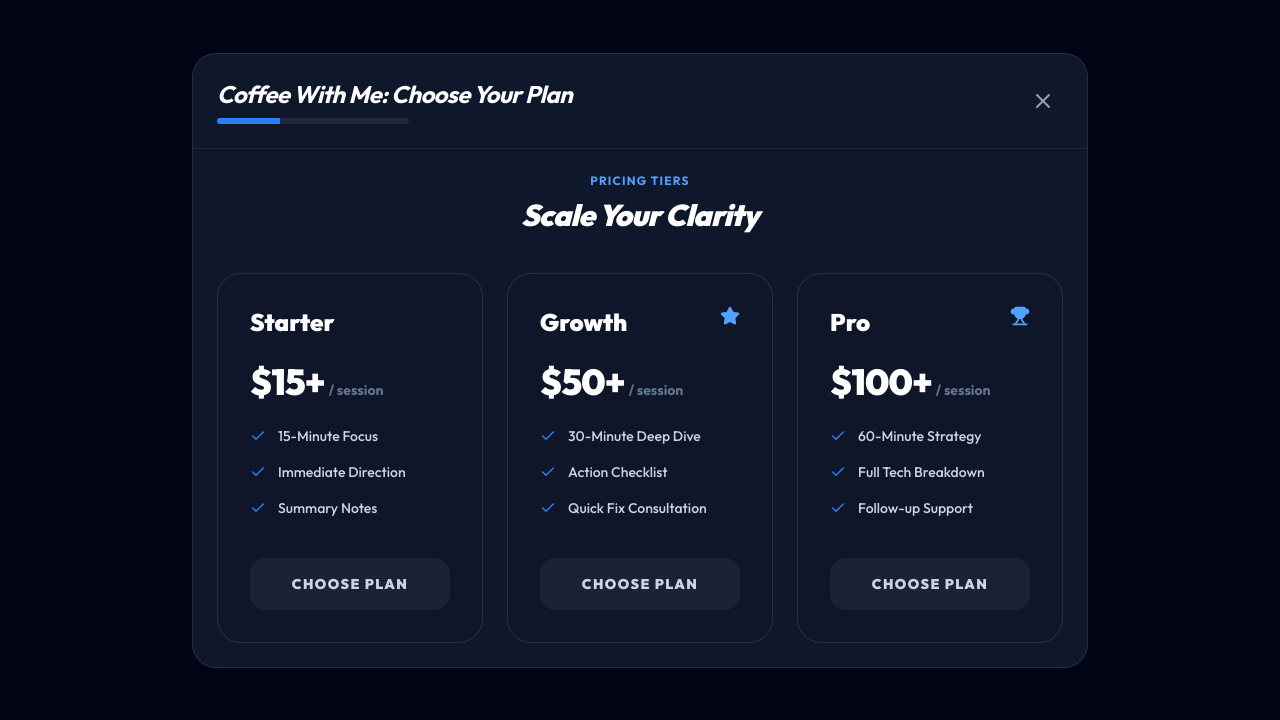
CoffeeMeModal Component (Consultancy Journey Integration) › transitions through the 3-step state machine correctly
This screenshot has width=1280, height=720.
Step 1: Plans
Click the heading "Growth" at (584, 322), box [540,306,627,338]
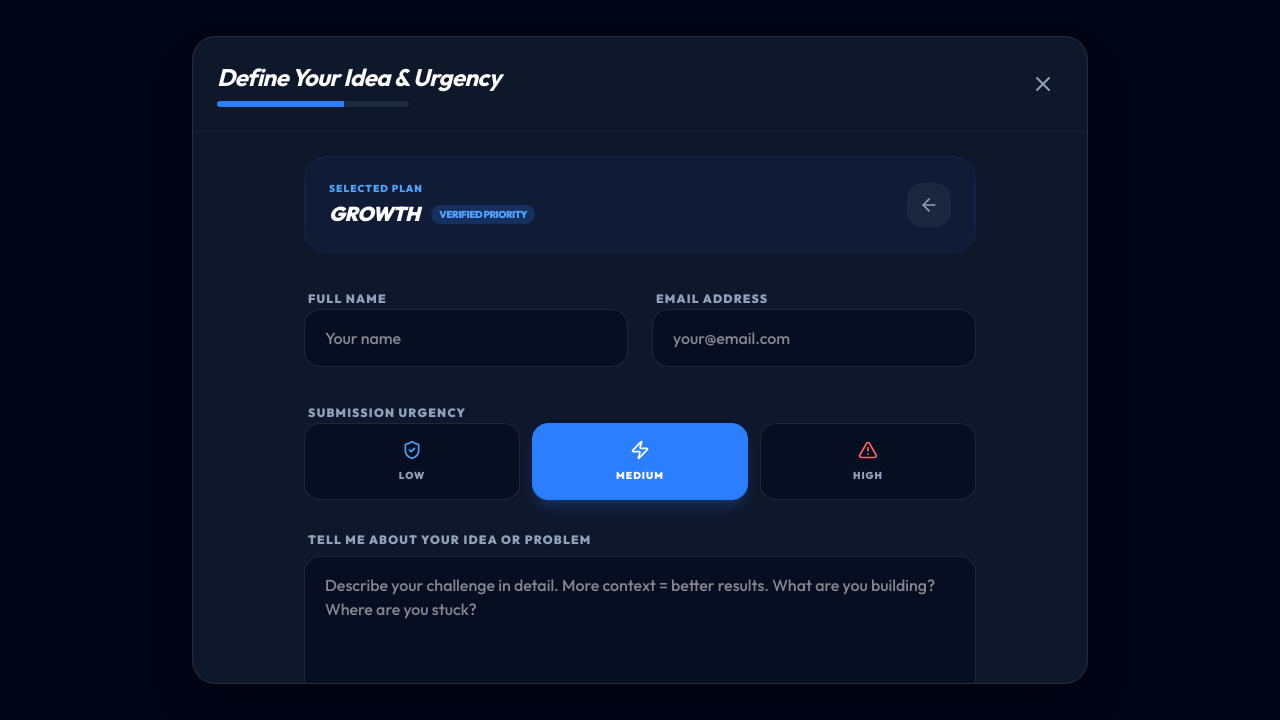
Check: the heading "Define Your Idea & Urgency" is shown, box [217,61,501,93]
Type "Tester" into the field with placeholder "Your name" at (466, 338), box [304,309,628,367]
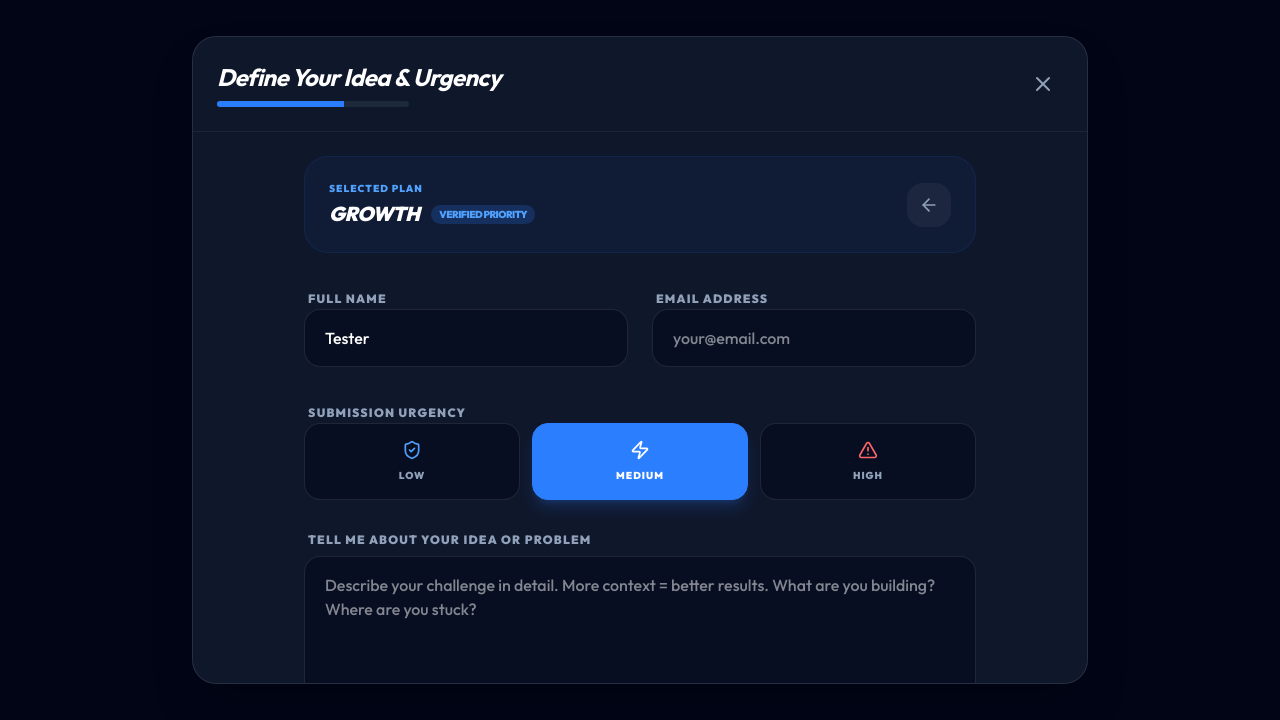
Type "test@example.com" into the field with placeholder "your@email.com" at (814, 338), box [652,309,976,367]
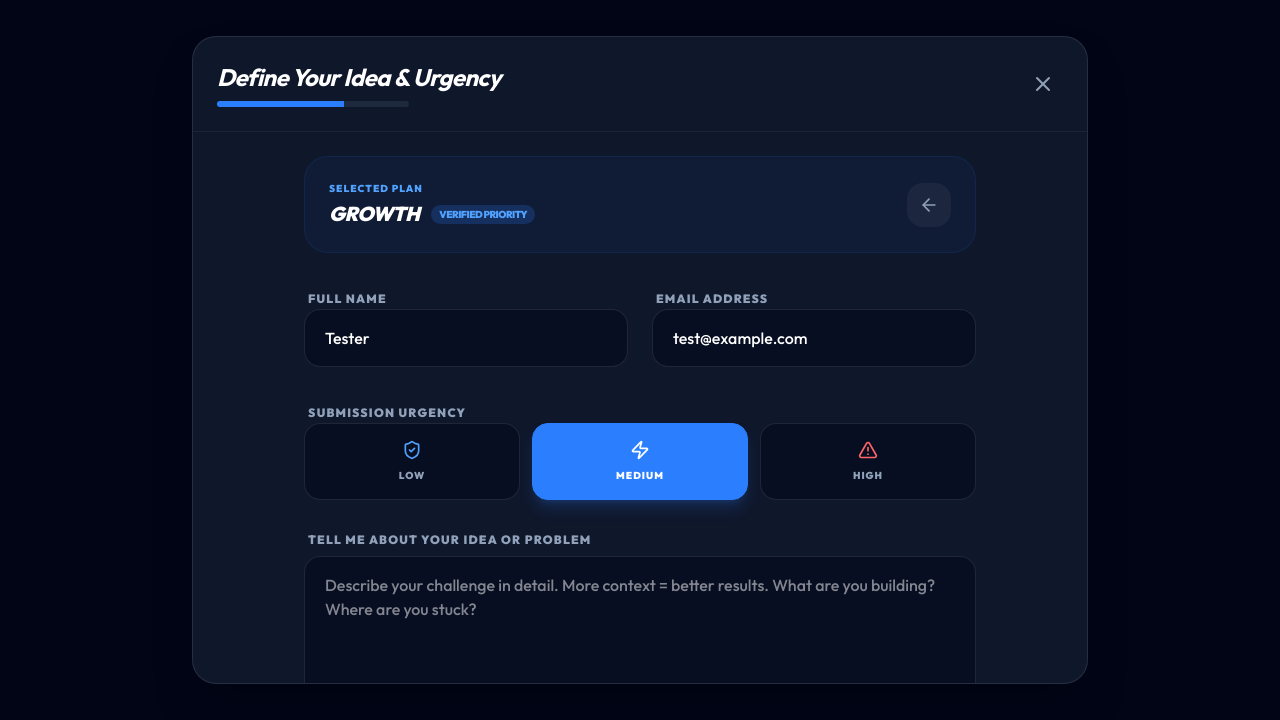
Select Urgency
Click the button "High" at (868, 462), box [760,423,976,500]
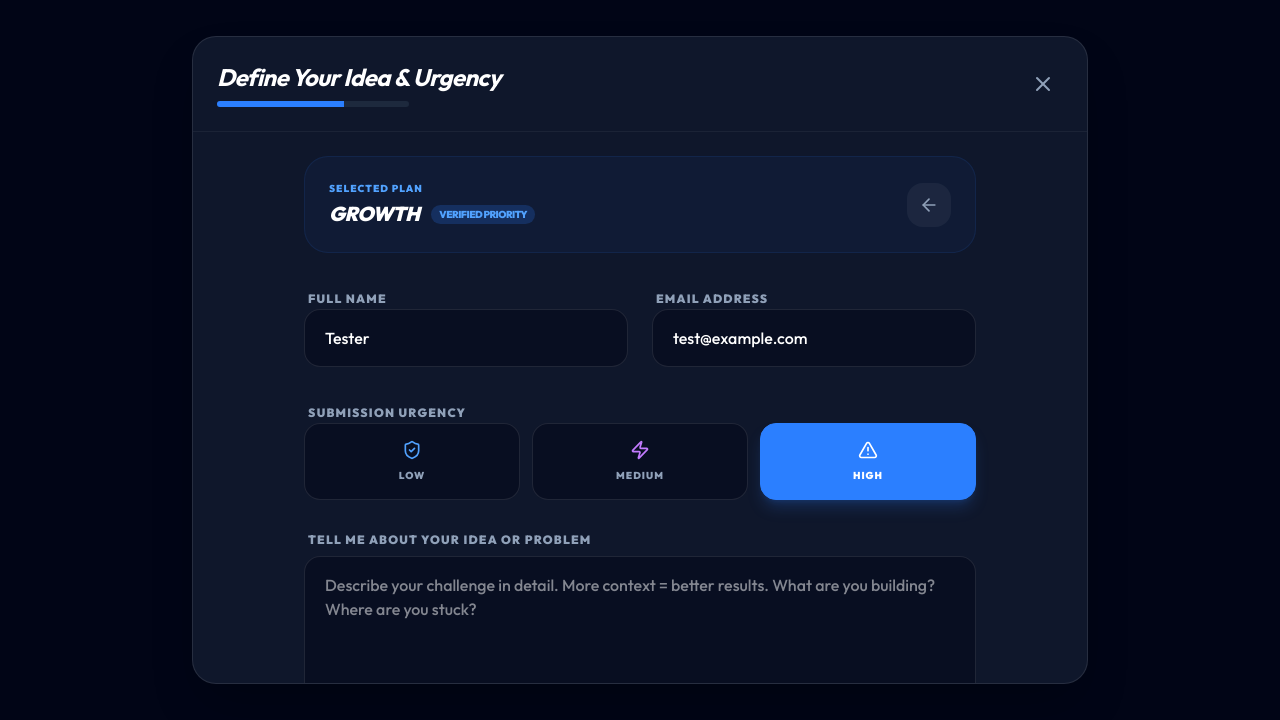
Replace the text in the text box with placeholder "Describe your challenge in detail" with "I need help with React performance optimization and high-scale SSR challenges with Drizzle." at (640, 636), box [304,556,976,716]
(page scrolled)
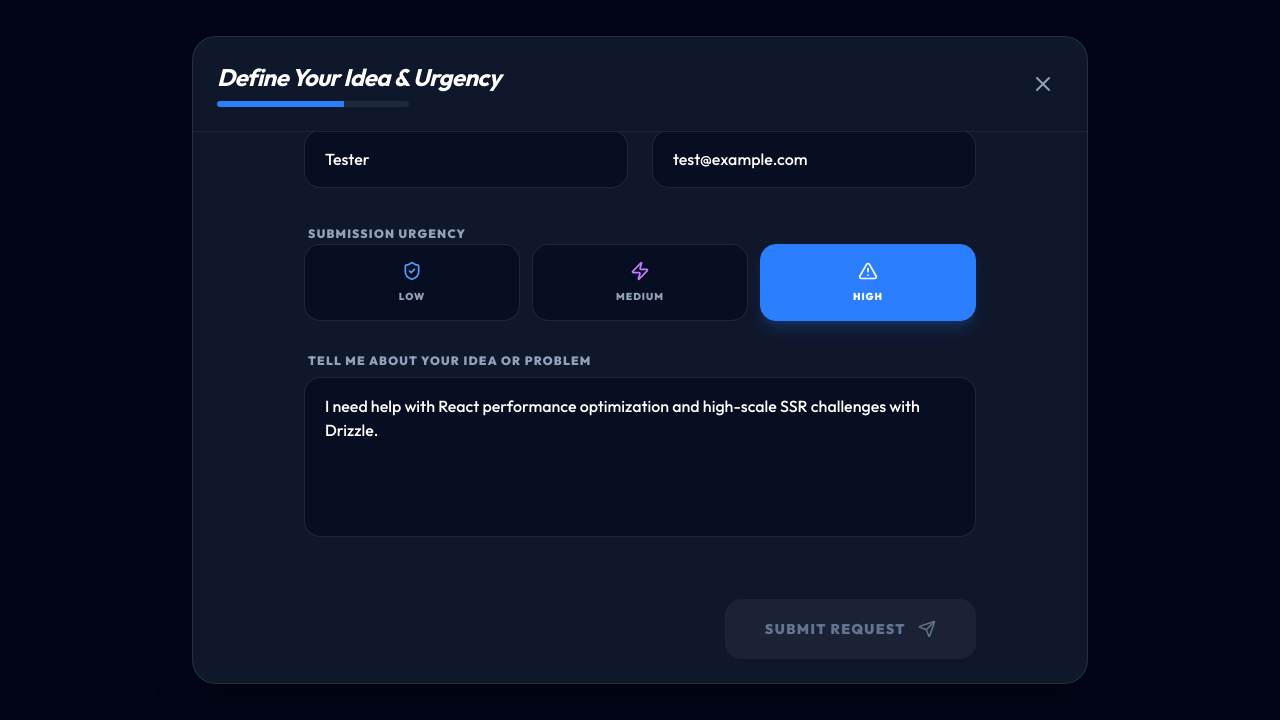
Click the button "Submit Request" at (850, 629), box [725,599,976,659]
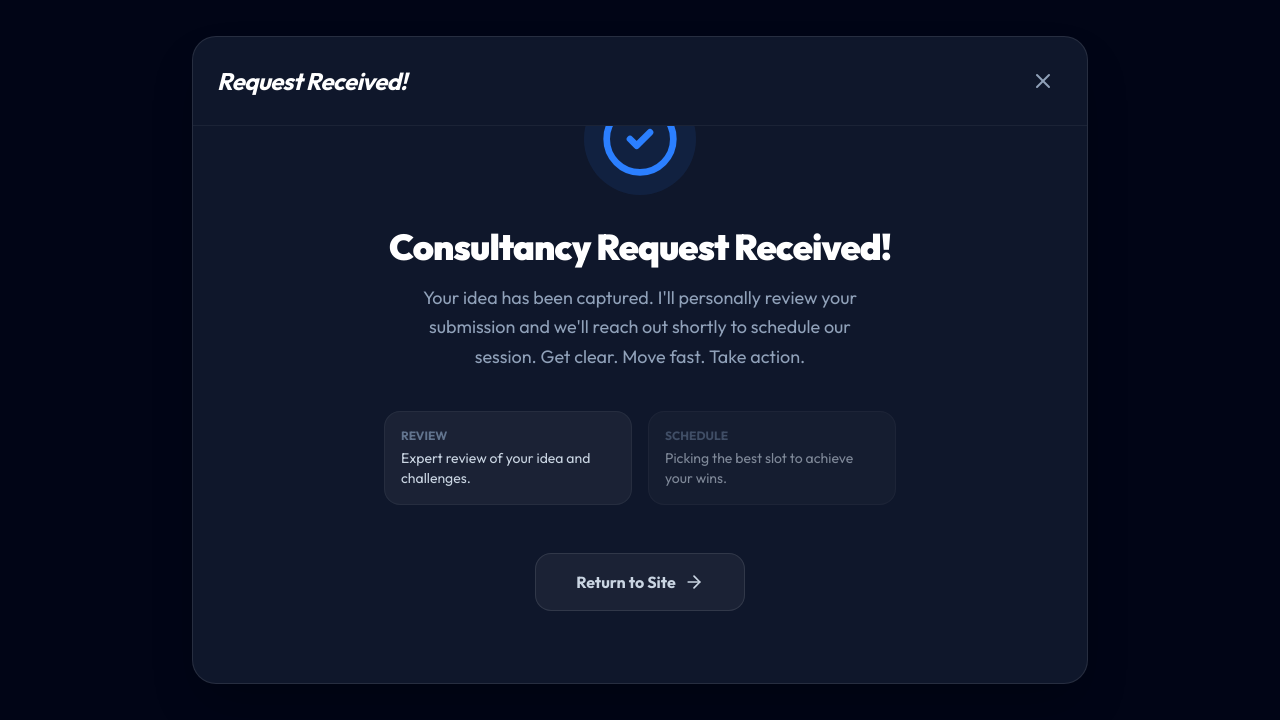
Check: the heading "Consultancy Request Received!" is shown, box [389,227,891,267]
